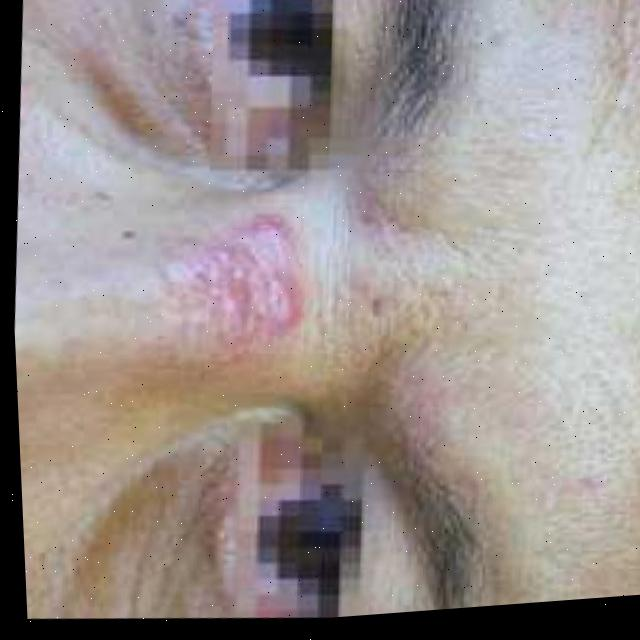Rosacea: (175, 209, 340, 359)
